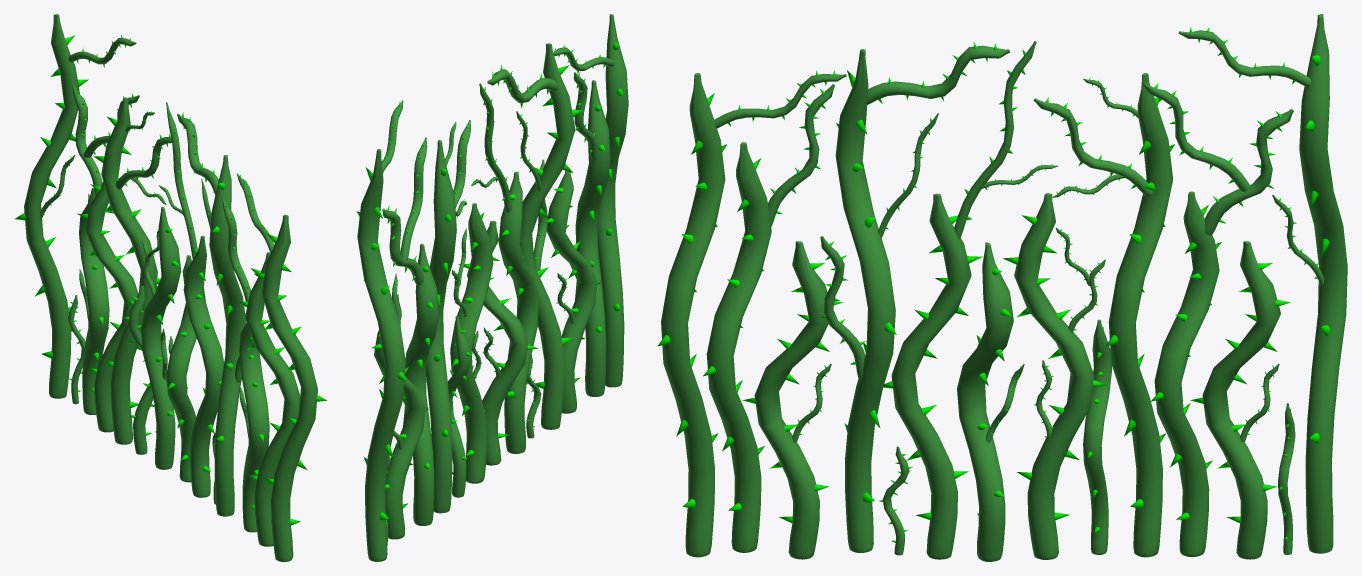
The model's file is Bush Assets.fbx.
3 views of the same model, side by side, from view 1: azimuth 30°, elevation 25°; view 2: azimuth 150°, elevation 25°; view 3: azimuth 270°, elevation 25° (orthographic). The views are drawn at different scales.
Visible parts, largest first — view 1: pCone42, pCone41, pCone16, pCone20, pCone14, pCone13, pCone33, pCone25, pCone36, pCone26, pCone15, pCone24 (+7 smaller); view 2: pCone42, pCone16, pCone41, pCone20, pCone33, pCone13, pCone14, pCone25, pCone36, pCone15, pCone26, pCone24 (+9 smaller); view 3: pCone42, pCone41, pCone16, pCone20, pCone33, pCone13, pCone14, pCone25, pCone26, pCone36, pCone15, pCone24 (+10 smaller).
Boxes of the visible parts, x1,y1,x2,y2 form: pCone42: (15,14,136,398); pCone41: (236,173,326,561); pCone16: (209,155,246,516); pCone20: (93,97,159,444); pCone14: (183,236,224,497); pCone13: (141,207,181,469); pCone33: (238,252,300,546); pCone25: (77,182,138,432); pCone36: (239,323,269,532); pCone26: (79,187,109,414); pCone15: (166,255,205,482); pCone24: (122,285,154,454); pCone42: (356,100,407,561); pCone16: (520,43,583,429); pCone41: (553,14,628,387); pCone20: (426,140,456,513); pCone33: (575,80,610,396); pCone13: (450,203,493,483); pCone14: (498,171,539,453); pCone25: (405,243,438,525); pCone36: (543,170,600,413); pCone15: (458,221,538,465); pCone26: (371,294,428,539); pCone24: (448,316,472,497); pCone42: (1178,14,1347,553); pCone41: (657,70,846,557); pCone16: (835,49,896,552); pCone20: (1105,73,1174,557); pCone33: (703,142,771,552); pCone13: (1003,193,1107,559); pCone14: (883,193,982,559); pCone25: (1150,191,1221,556); pCone26: (1190,241,1290,559); pCone36: (742,241,842,559); pCone15: (957,242,1013,561); pCone24: (1083,319,1112,554).
Size of the model in its own units: 2.51 by 12.93 by 14.95.
